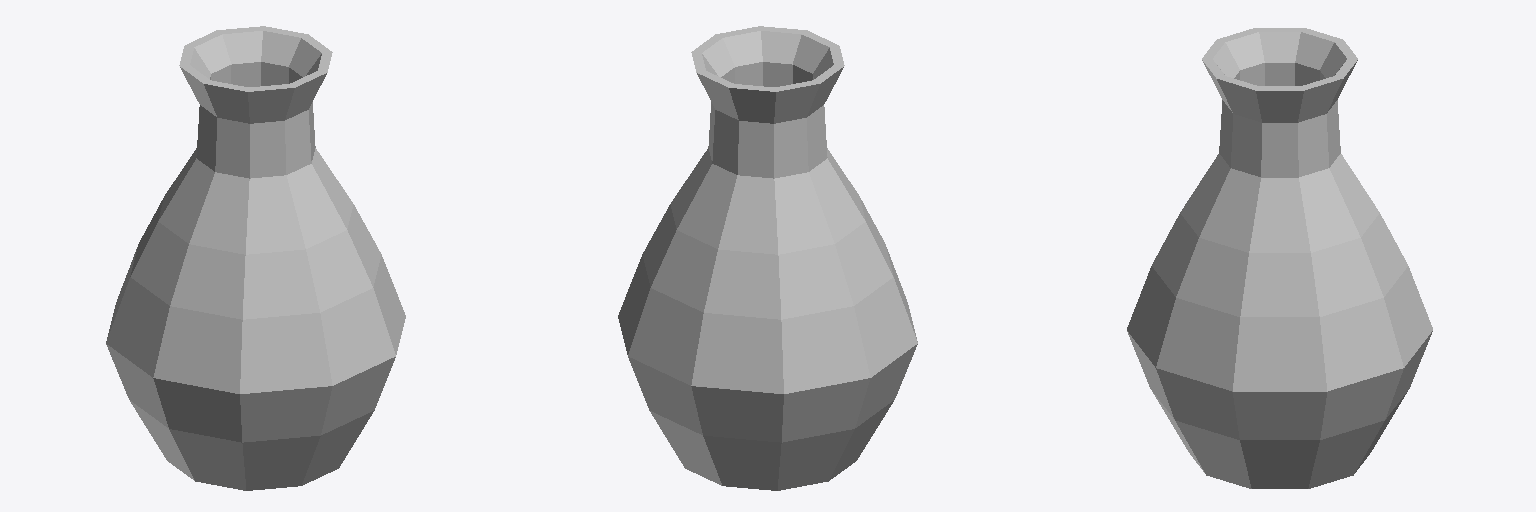
File: vase01.obj
3 views of the same model, side by side, from view 1: azimuth 30°, elevation 25°; view 2: azimuth 150°, elevation 25°; view 3: azimuth 270°, elevation 25° (orthographic).
Parts seen in each view (by area): view 1: Cylinder; view 2: Cylinder; view 3: Cylinder.
Part boxes in pixels (left/top/right/bottom): Cylinder: left=106, top=26, right=405, bottom=490; Cylinder: left=618, top=26, right=917, bottom=490; Cylinder: left=1127, top=28, right=1432, bottom=488.
Bounding box in the file's own units: 0.2517 × 0.3747 × 0.2647.